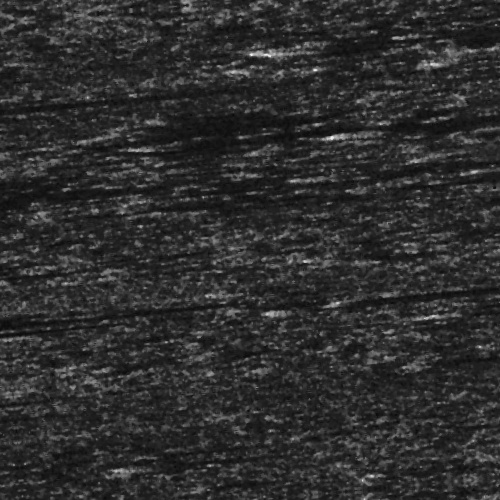object: (273, 44, 366, 59), (382, 74, 500, 85), (289, 138, 382, 145), (386, 329, 479, 336), (97, 449, 150, 460), (190, 132, 243, 141), (278, 178, 361, 183), (314, 308, 367, 313), (331, 479, 372, 484)
shadow: (319, 44, 500, 59), (217, 132, 500, 141), (0, 294, 220, 305), (124, 449, 291, 460), (335, 138, 500, 145), (319, 178, 500, 183), (0, 82, 174, 87), (340, 308, 500, 313), (0, 305, 96, 312), (352, 479, 472, 484), (449, 74, 500, 85), (0, 392, 111, 397), (433, 329, 500, 336), (0, 250, 58, 255)
